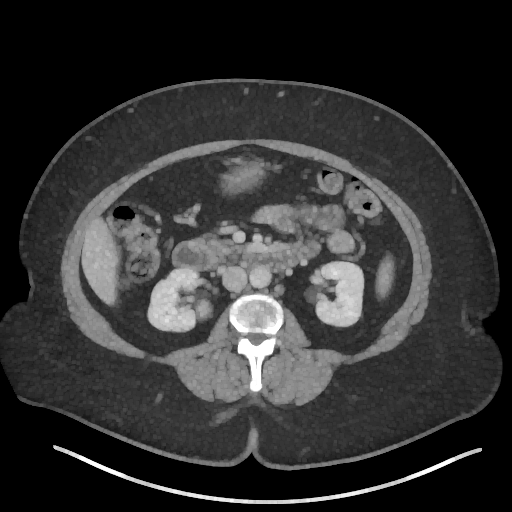Lesion: (163, 308, 171, 317)
